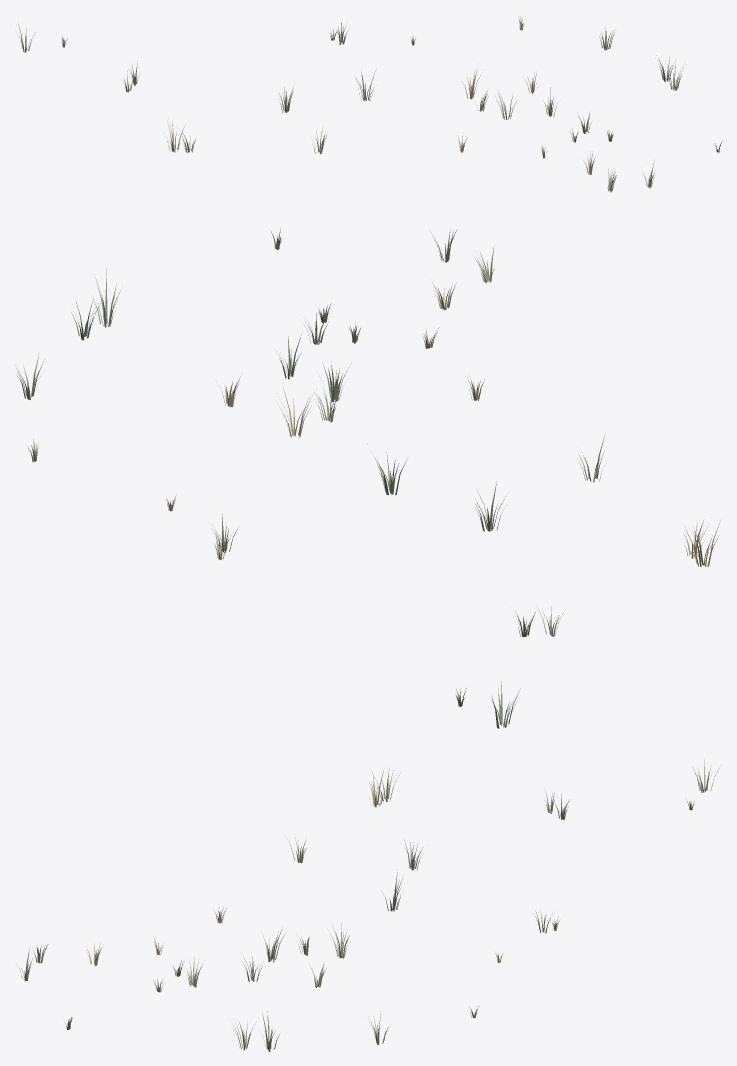
File: AE_Grass_1_2.fbx
3 renders of one model, top to bottom at view 1: azimuth 30°, elevation 25°; view 2: azimuth 150°, elevation 25°; view 3: azimuth 270°, elevation 25°, orthographic. The views are drawn at different scales.
Parts seen in each view (by area): view 1: AE_Grass_1_2_LOD0; view 2: AE_Grass_1_2_LOD0; view 3: AE_Grass_1_2_LOD0.
Boxes of the visible parts, bbox=[...] form: AE_Grass_1_2_LOD0: bbox=[18, 16, 722, 192]; AE_Grass_1_2_LOD0: bbox=[15, 228, 720, 728]; AE_Grass_1_2_LOD0: bbox=[17, 759, 719, 1051].
Size of what is drawn, in the model's own units: 1578 by 102 by 1775.
